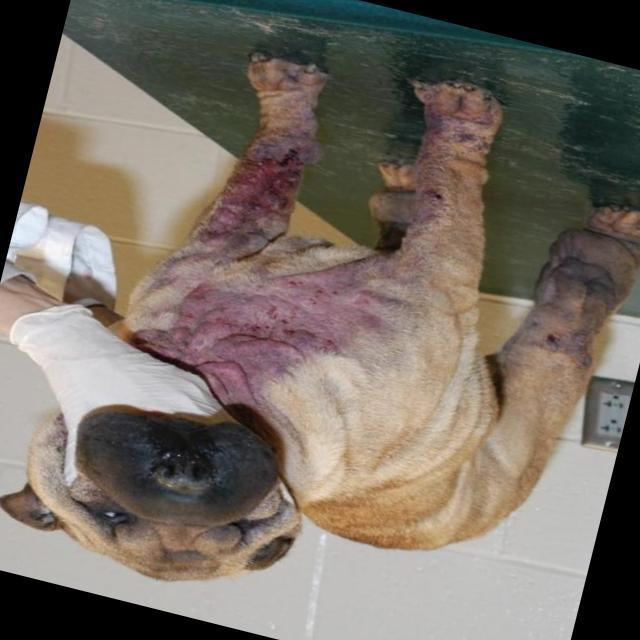allergic dermatitis: (142, 272, 381, 382), (212, 124, 289, 304)
